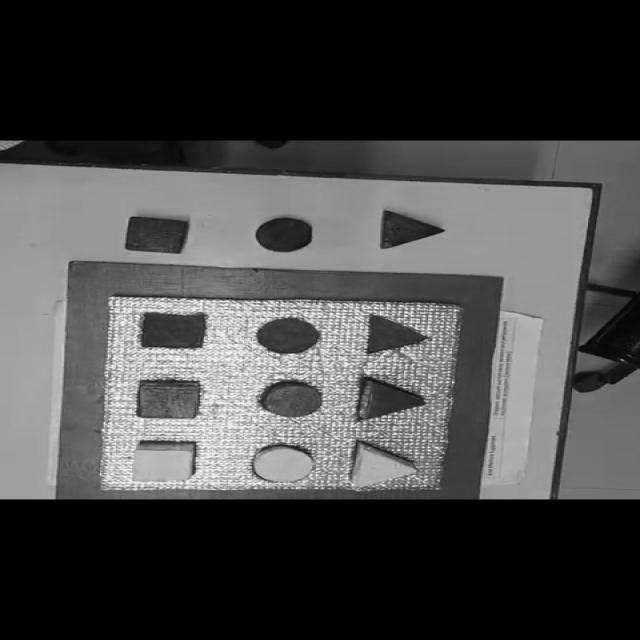bcircle: (254, 217, 314, 252)
bcube: (123, 215, 192, 255)
btriangle: (381, 210, 445, 248)
mtcircle: (255, 317, 322, 354)
mtcube: (139, 311, 210, 350)
mttriangle: (364, 314, 429, 355)
rcircle: (260, 381, 324, 416)
rcube: (136, 382, 202, 419)
rtriangle: (357, 377, 428, 420)
wb: (98, 296, 460, 492)
ycircle: (251, 444, 316, 484)
ycube: (130, 441, 196, 482)
ytriangle: (349, 442, 416, 488)
